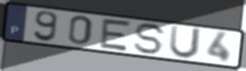0: (66, 14, 95, 47)
4: (204, 30, 233, 65)
9: (33, 10, 60, 43)
E: (97, 17, 134, 53)
S: (133, 22, 169, 56)
U: (167, 24, 204, 61)
